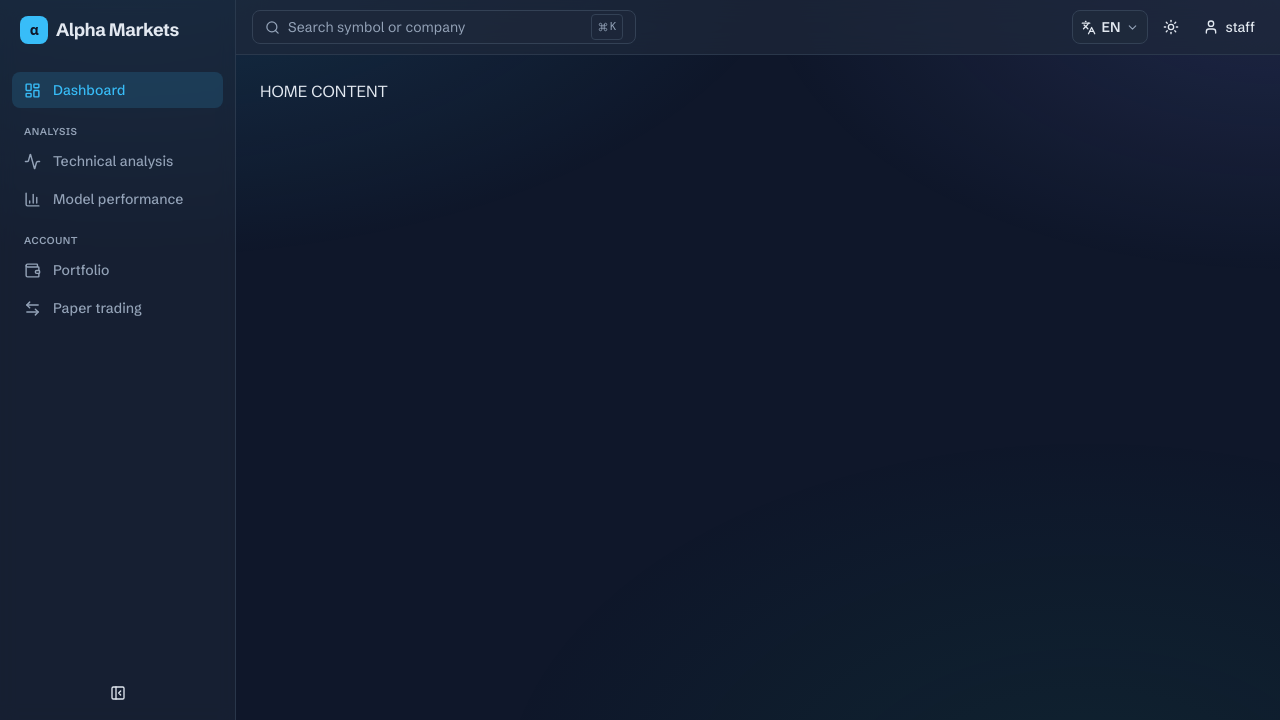
it: MainLayout: role-based display › Escape closes the account menu
Click the button with aria-label "Account menu" at {"x": 1229, "y": 27}, box [1194, 10, 1264, 44]
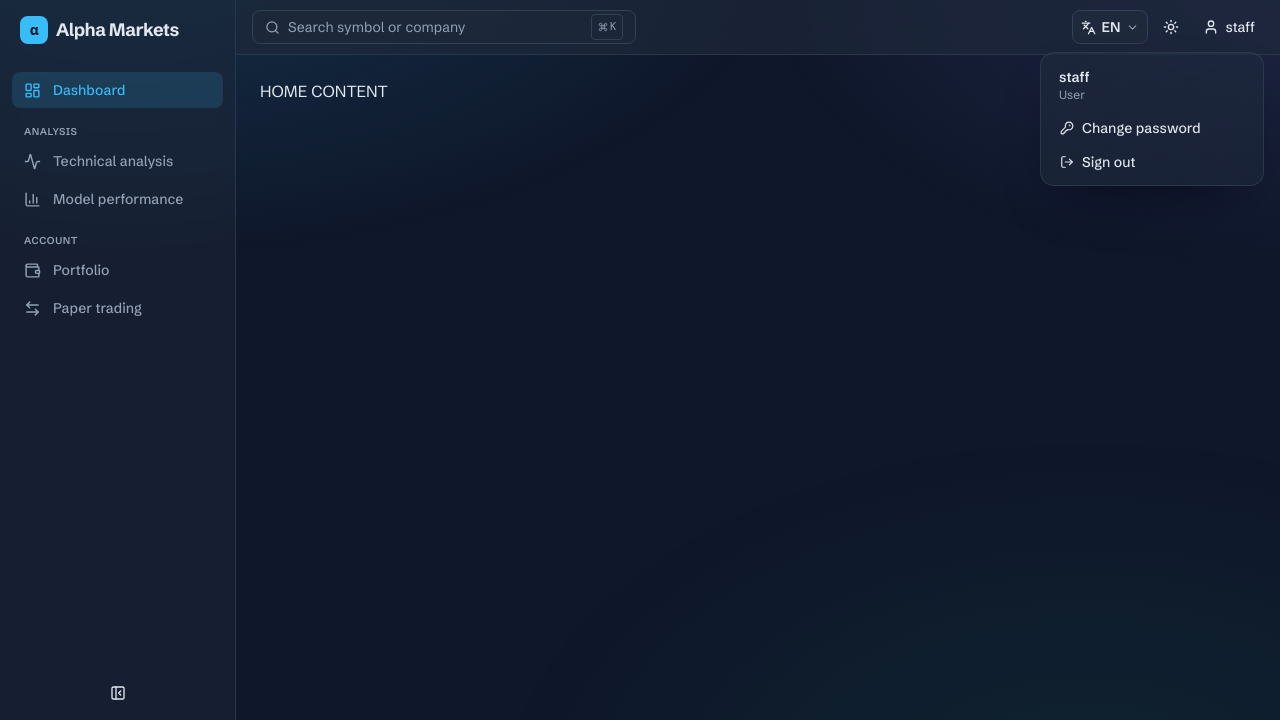
Press Escape
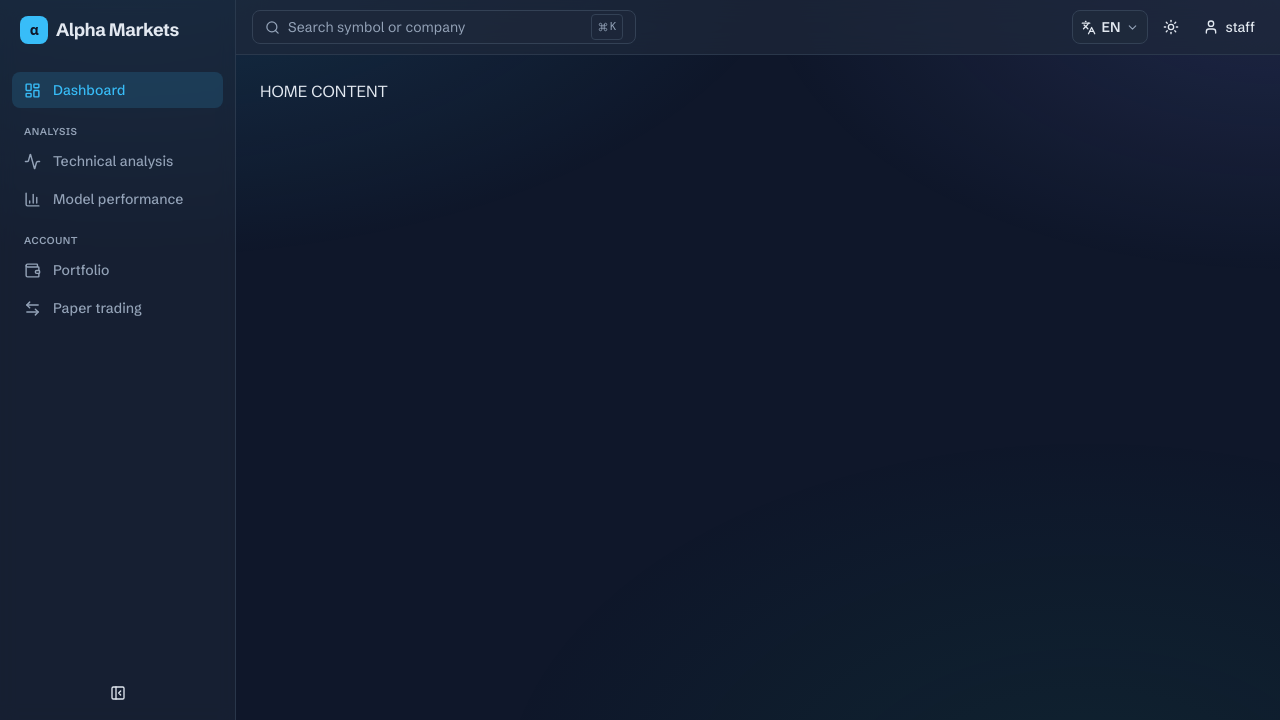
Expected: the menu is gone
